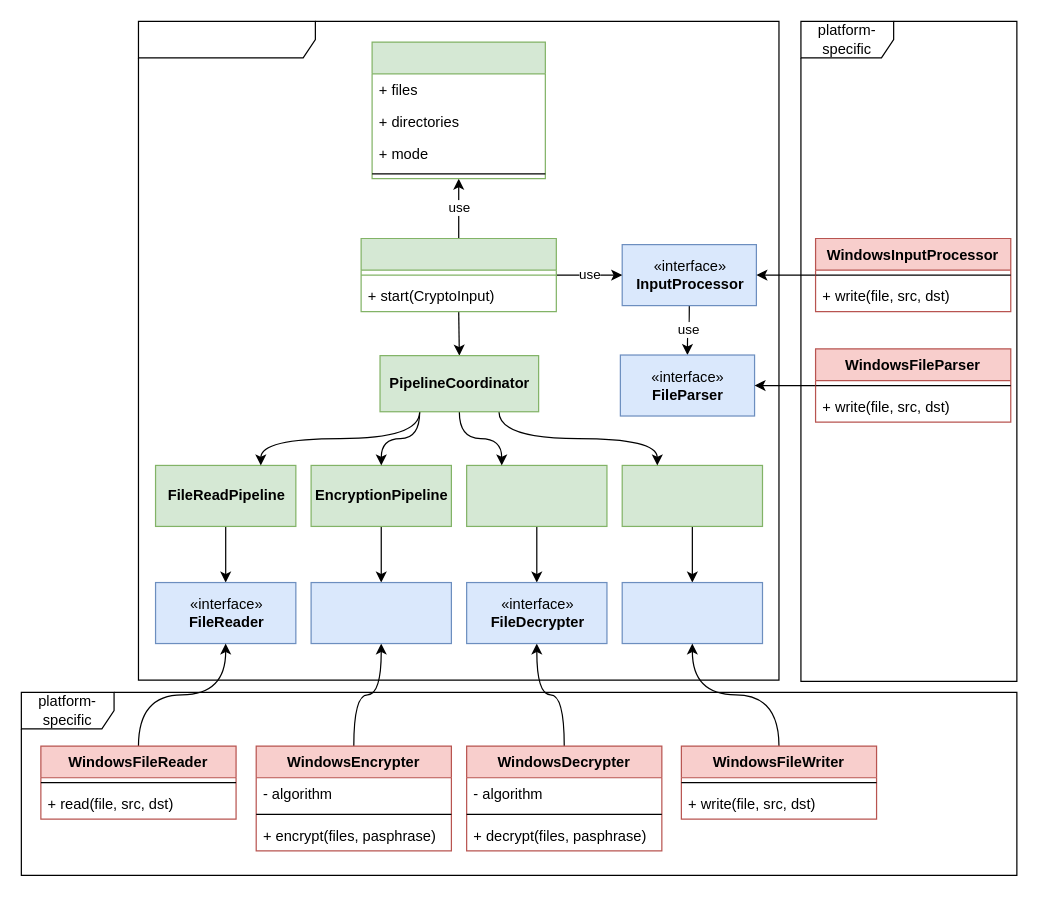
Image size: 1038x897. Some labels were removed from this diagram. Each missing label, with the box of its shape:
CryptoEngine: (360, 237, 556, 312)
DecryptionPipeline: (465, 464, 607, 526)
FileWritePipeline: (621, 464, 762, 526)
Input: (371, 41, 545, 179)
platform-independent: (137, 20, 779, 680)
«interface» FileEncrypter: (310, 581, 451, 644)
«interface» FileWriter: (621, 581, 762, 644)
